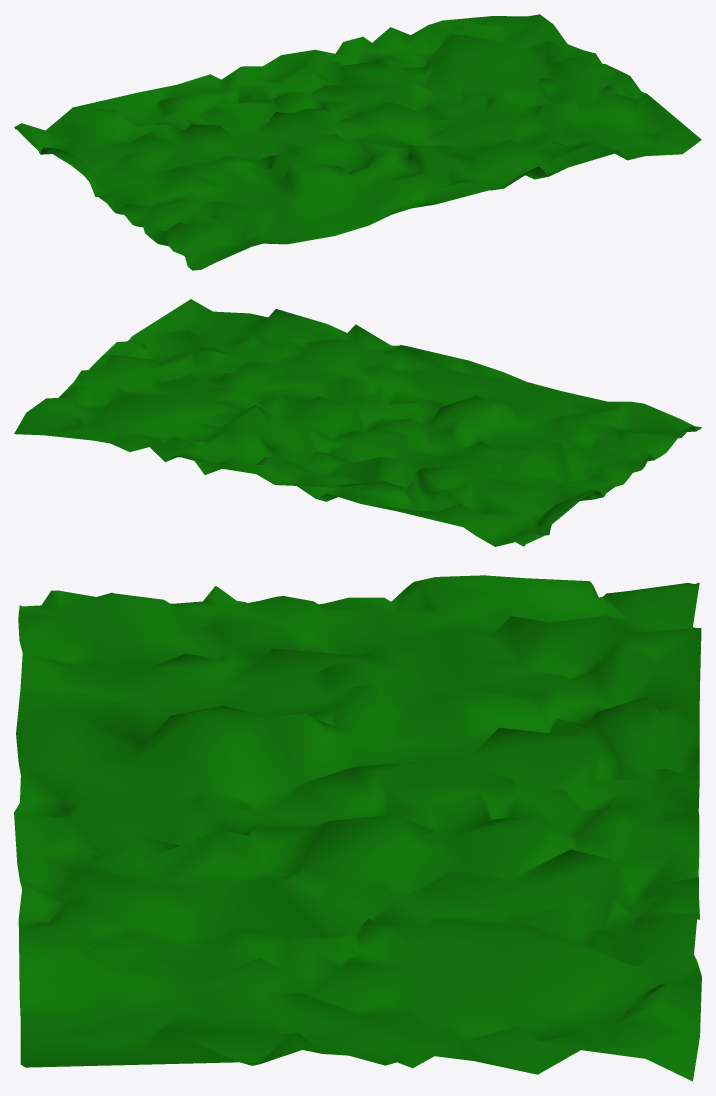
Rendered from Stones2.FBX.
3 renders of one model, top to bottom at view 1: azimuth 30°, elevation 25°; view 2: azimuth 150°, elevation 25°; view 3: azimuth 270°, elevation 25°, orthographic. The views are drawn at different scales.
Parts seen in each view (by area): view 1: Stones2_Quarter_LOW; view 2: Stones2_Quarter_LOW; view 3: Stones2_Quarter_LOW.
Boxes of the visible parts, box(x1,y1,x2,y2) form: Stones2_Quarter_LOW: box(14, 14, 701, 270); Stones2_Quarter_LOW: box(14, 299, 701, 546); Stones2_Quarter_LOW: box(14, 575, 701, 1081).
Bounding box in the file's own units: 100 × 5.48 × 61.35.
